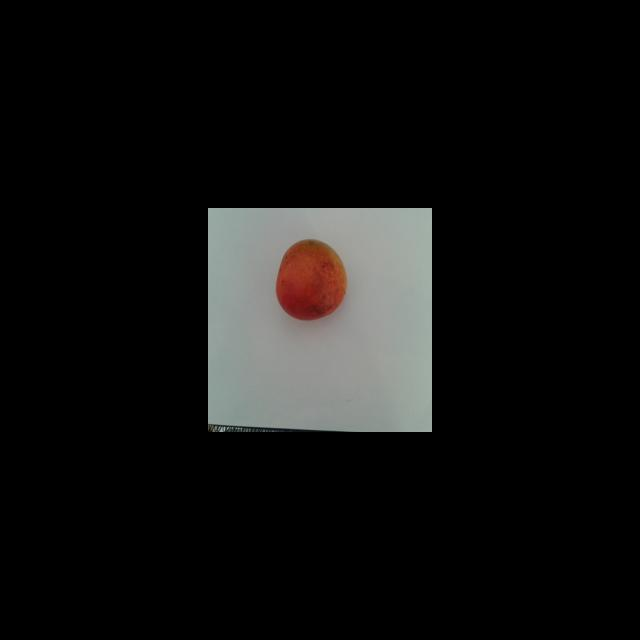Mango: (275, 238, 347, 320)
